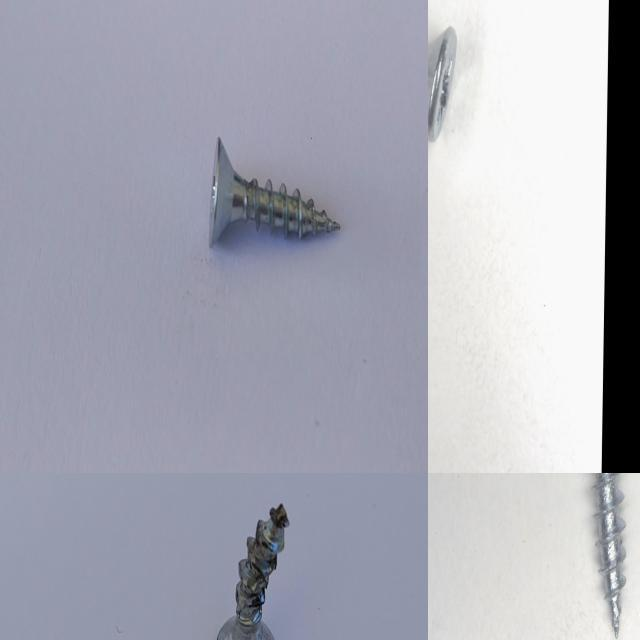Screw: (209, 136, 340, 246), (217, 503, 290, 640), (594, 473, 626, 637), (428, 26, 457, 140)
